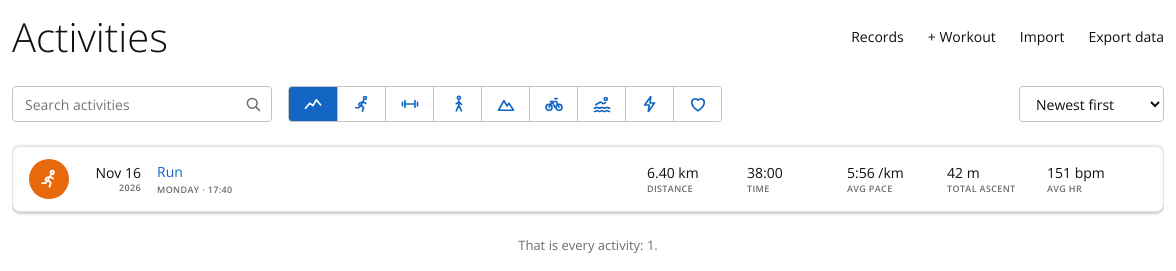
Test: ActivitiesPage › the Strength chip on /activities goes to /strength
Expected: the text "6.40 km" is shown, [647,163,699,182]
Click the button named "Strength" at point(409, 104), box [385,87,433,121]
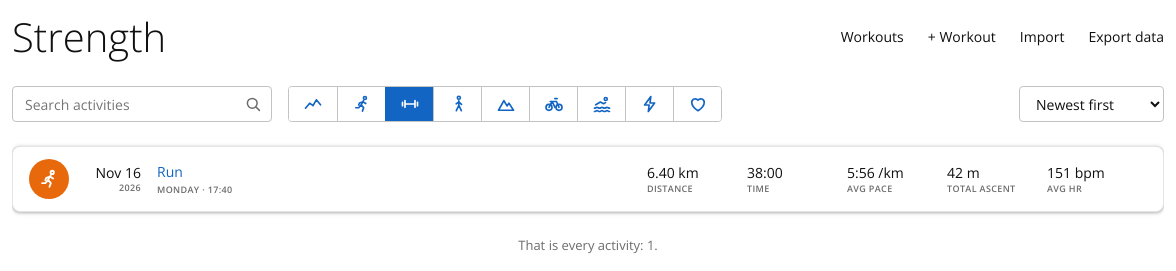
Expected: the heading "Strength" is shown, [12,12,166,62]
